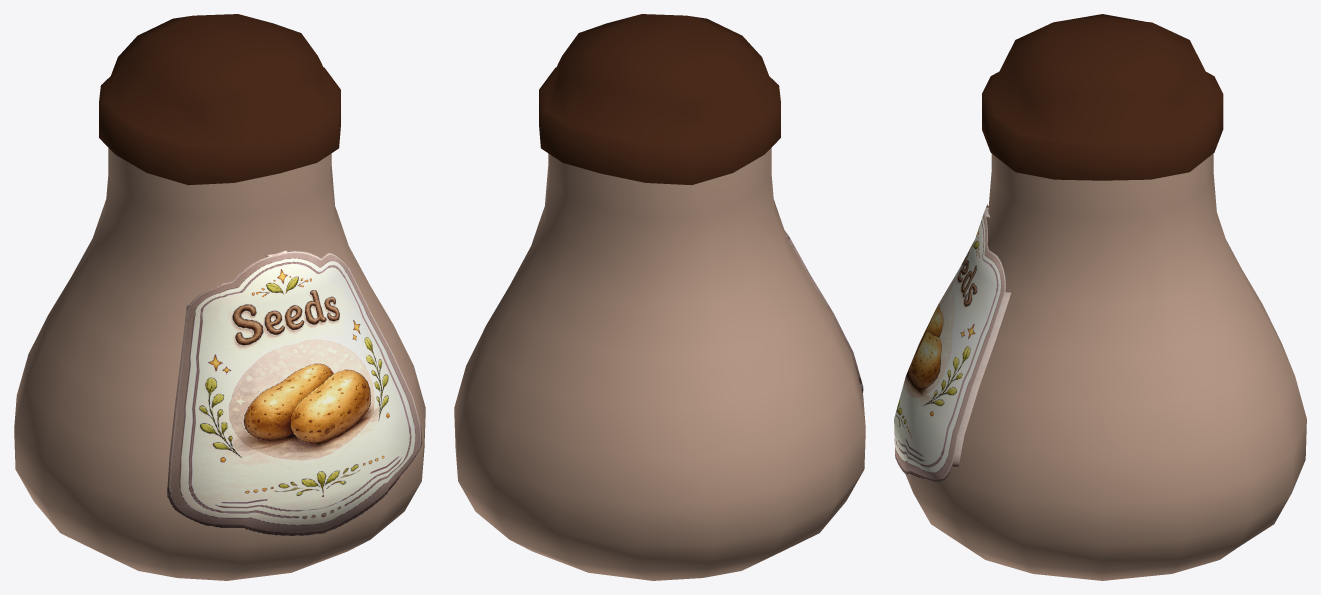
Rendered from seed_potato.glb.
The picture shows the model from 3 angles, left to right: view 1: azimuth 30°, elevation 25°; view 2: azimuth 150°, elevation 25°; view 3: azimuth 270°, elevation 25°; orthographic projection.
Visible parts, largest first — view 1: seed_potato; view 2: seed_potato; view 3: seed_potato.
Boxes of the visible parts, box(x1,y1,x2,y2) form: seed_potato: box(14, 14, 425, 580); seed_potato: box(454, 14, 865, 580); seed_potato: box(894, 14, 1306, 580).
Size of what is drawn, in the model's own units: 0.3161 by 0.4348 by 0.3193.
3 materials, 1 textured.
